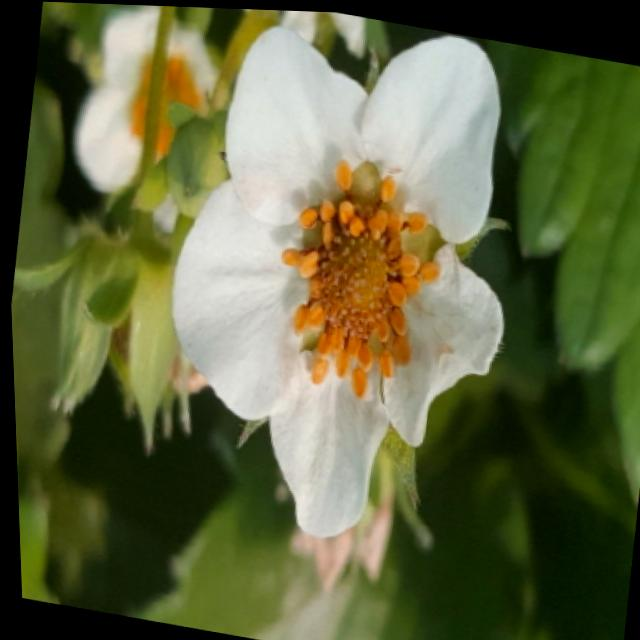Blossom Blight: (274, 155, 443, 397)
